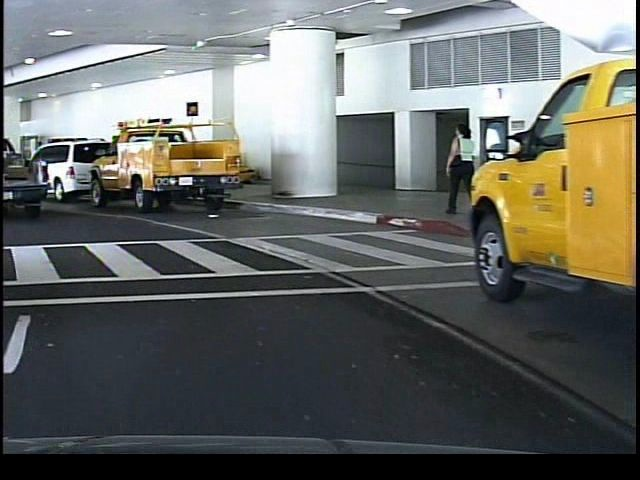person: (437, 118, 472, 217)
